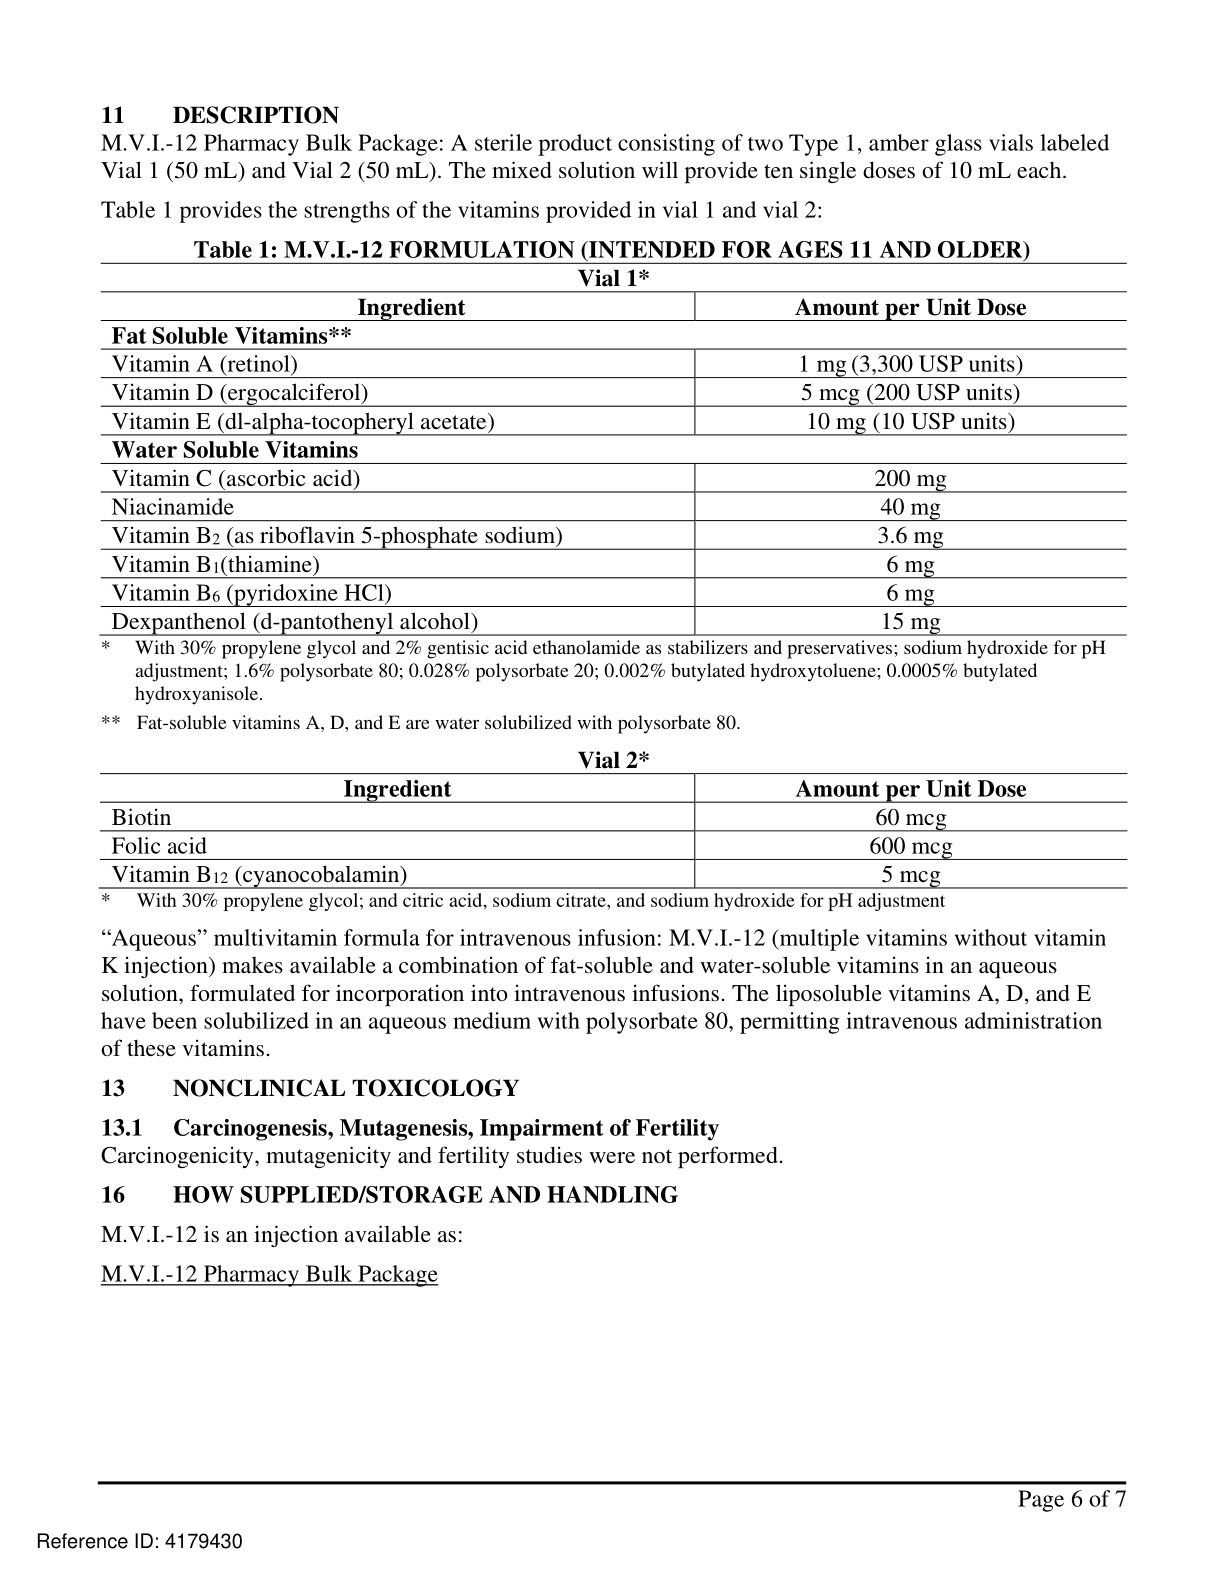partial_lined: (98, 771, 1129, 890)
partial_lined_merged_cells: (98, 261, 1128, 636)
